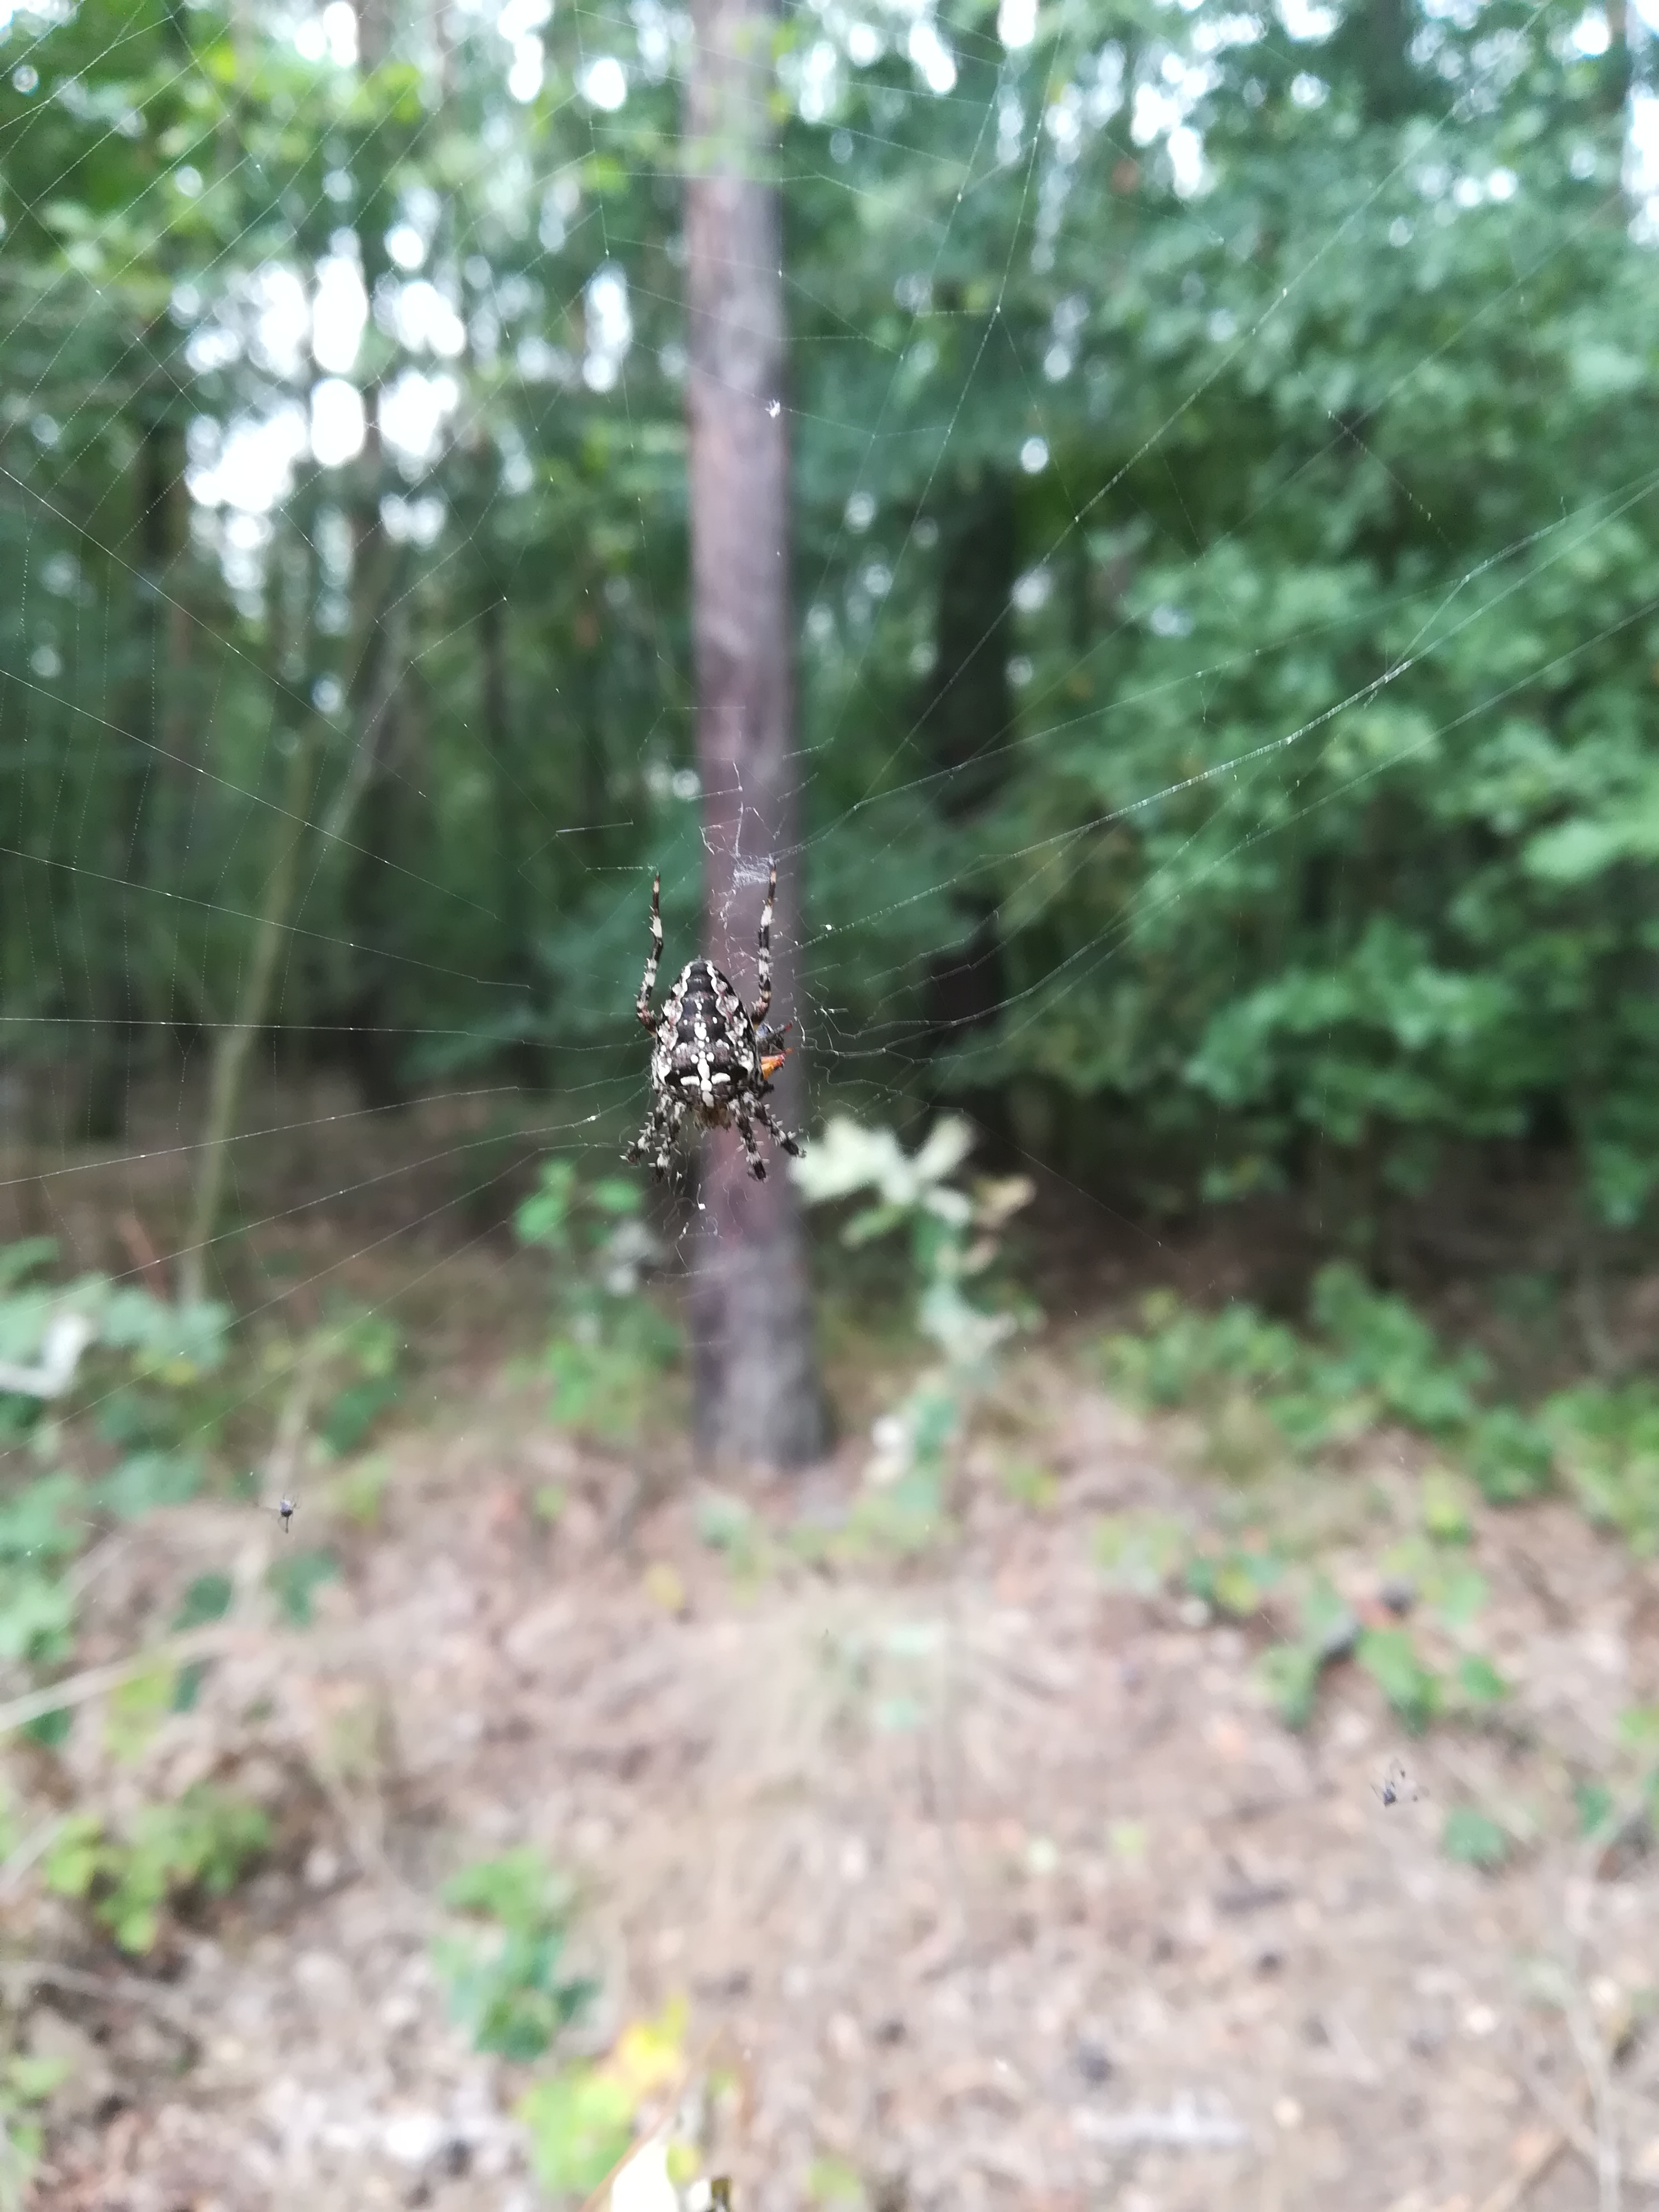spider: (579, 843, 866, 1211)
